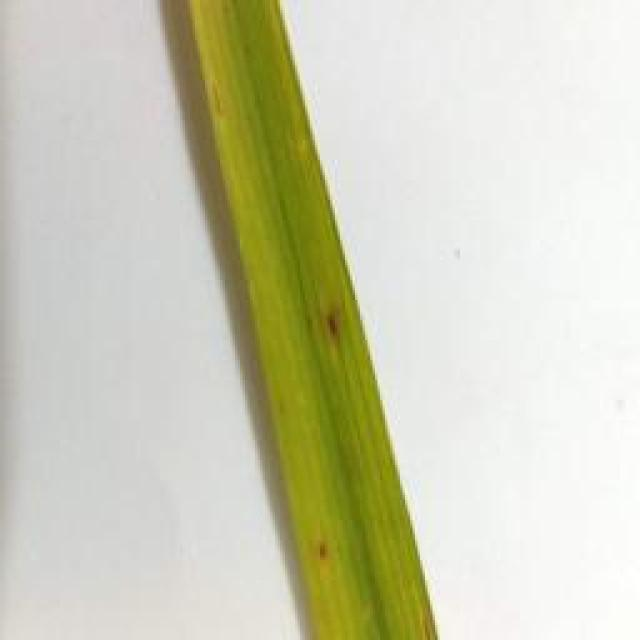Brown_Spot: (296, 516, 352, 588), (314, 306, 354, 350)
